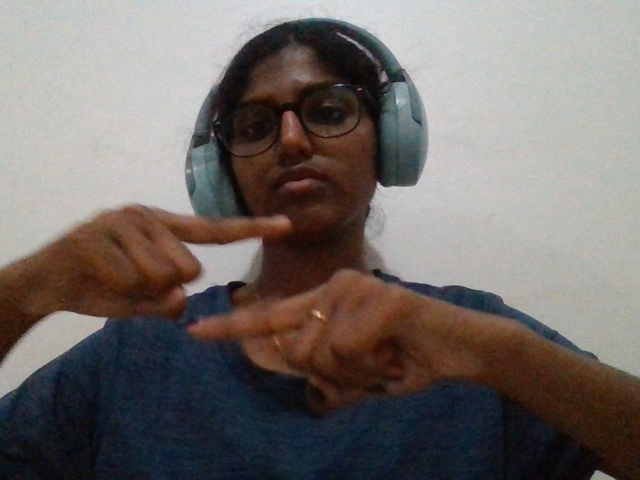Sign: (7, 135, 515, 471)
